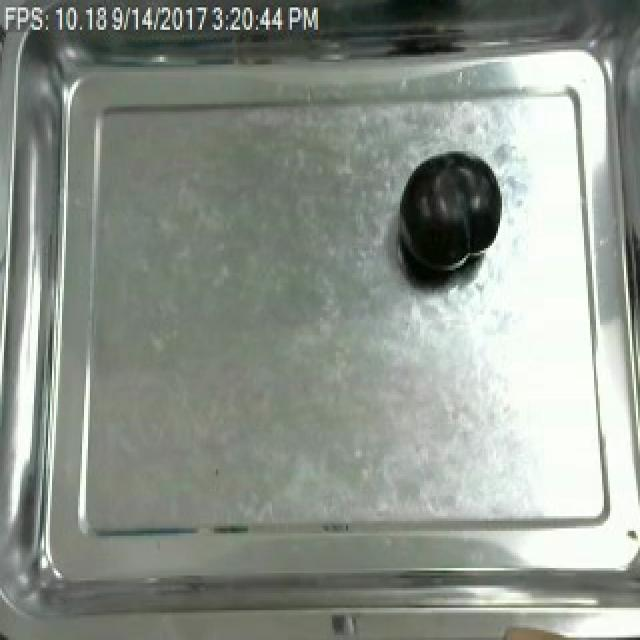Fruit: (394, 147, 506, 280)
